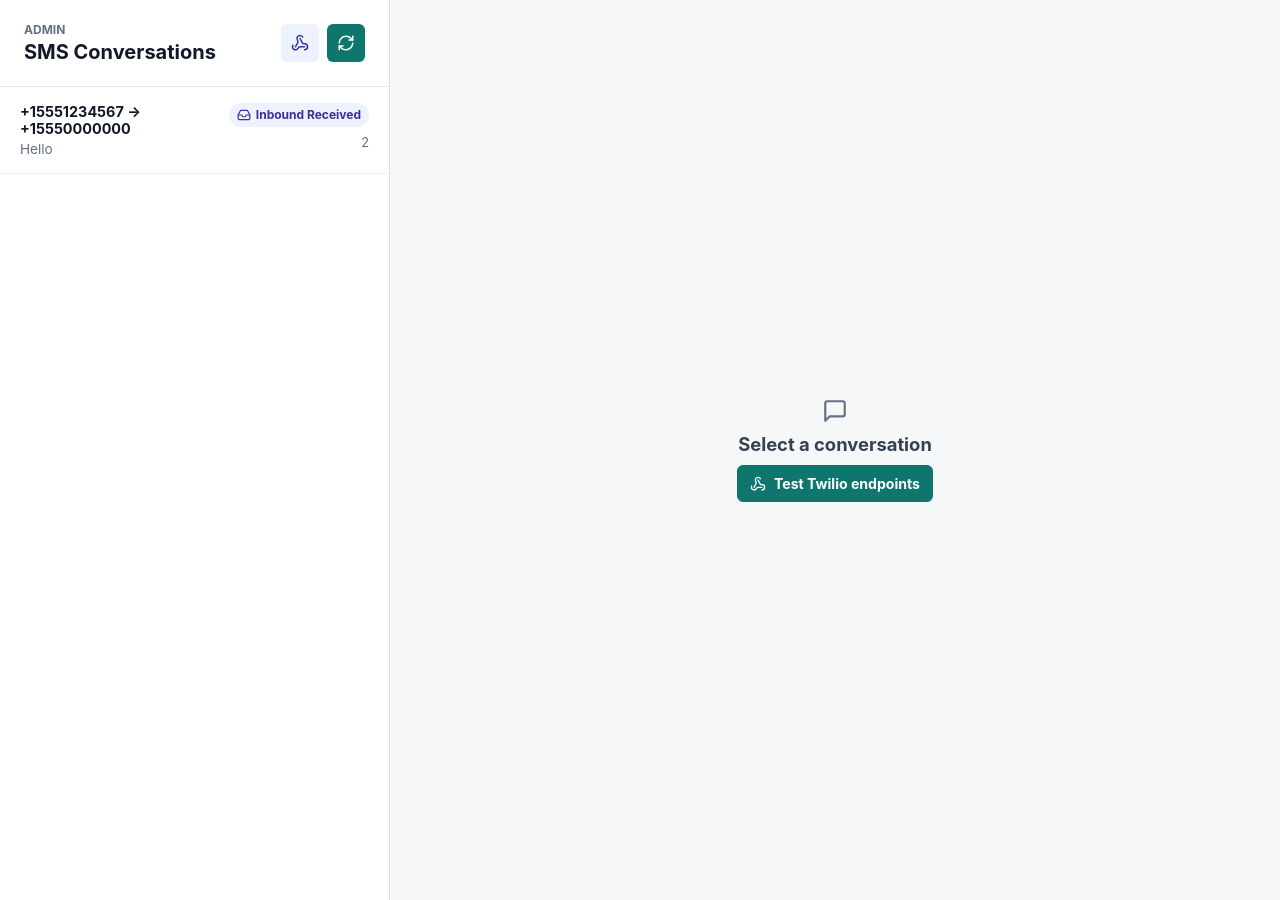
it: App › renders conversations and opens a conversation detail
Click the text "+15551234567 -> +15550000000" at (80, 120), box [20,103,141,137]
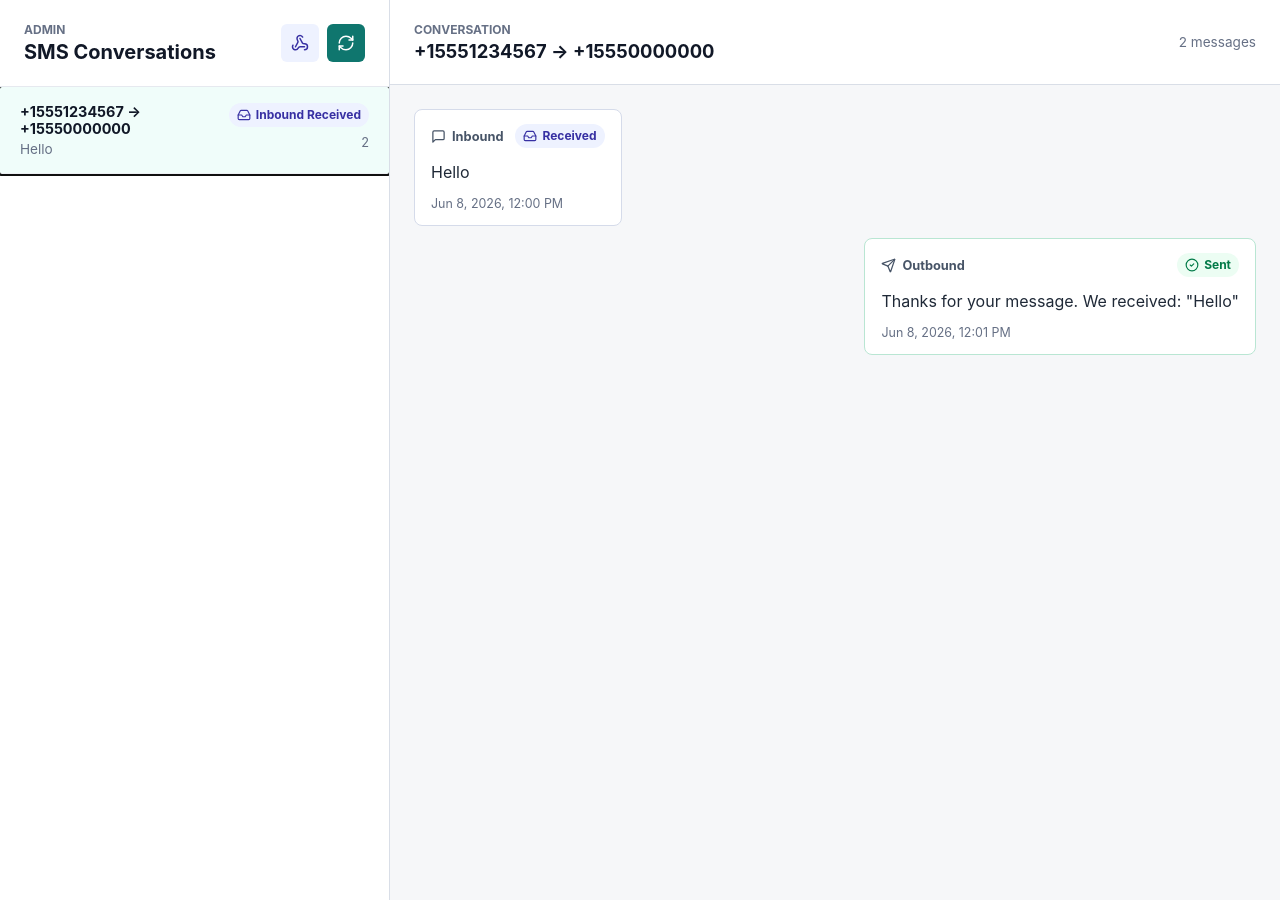
Now the text "2 messages" is shown, box [1179,34,1256,50]
Now the 2nd text "Hello" is shown, box [431,162,470,182]
Now the text "Thanks for your message. We received: \"Hello\"" is shown, box [881,289,1239,313]
